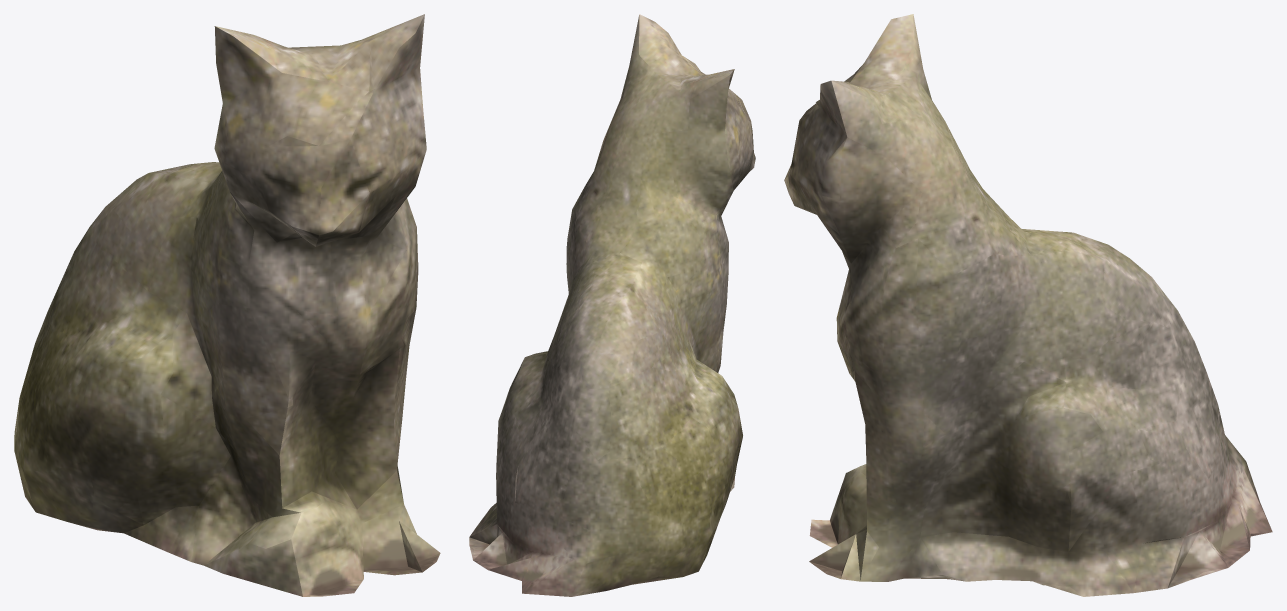
Rendered from cat_statue.glb.
3 views of the same model, side by side, from view 1: azimuth 30°, elevation 25°; view 2: azimuth 150°, elevation 25°; view 3: azimuth 270°, elevation 25° (orthographic). The views are drawn at different scales.
Visible parts, largest first — view 1: mesh; view 2: mesh; view 3: mesh.
Part boxes in pixels (bbox=[...]): mesh: bbox=[14, 14, 440, 596]; mesh: bbox=[469, 14, 755, 596]; mesh: bbox=[784, 14, 1272, 596].
Bounding box in the file's own units: 0.1576 × 0.283 × 0.2503.
1 material, 1 textured.
